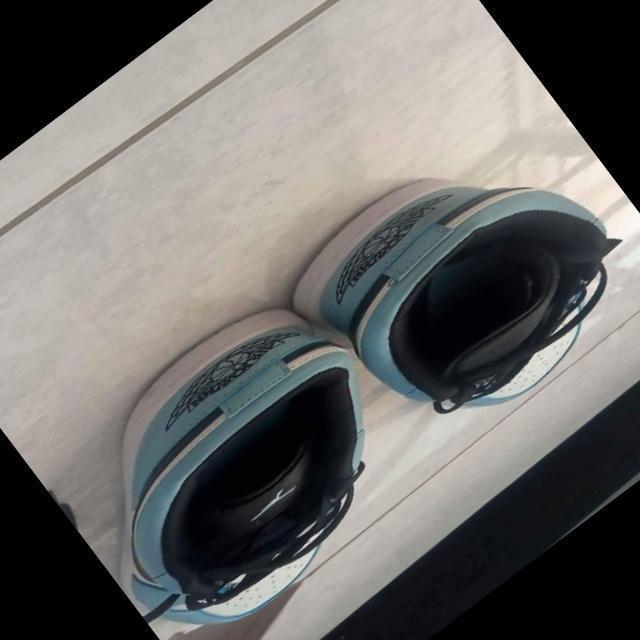nike fake jordan 1: (35, 273, 447, 640), (270, 95, 640, 465)
